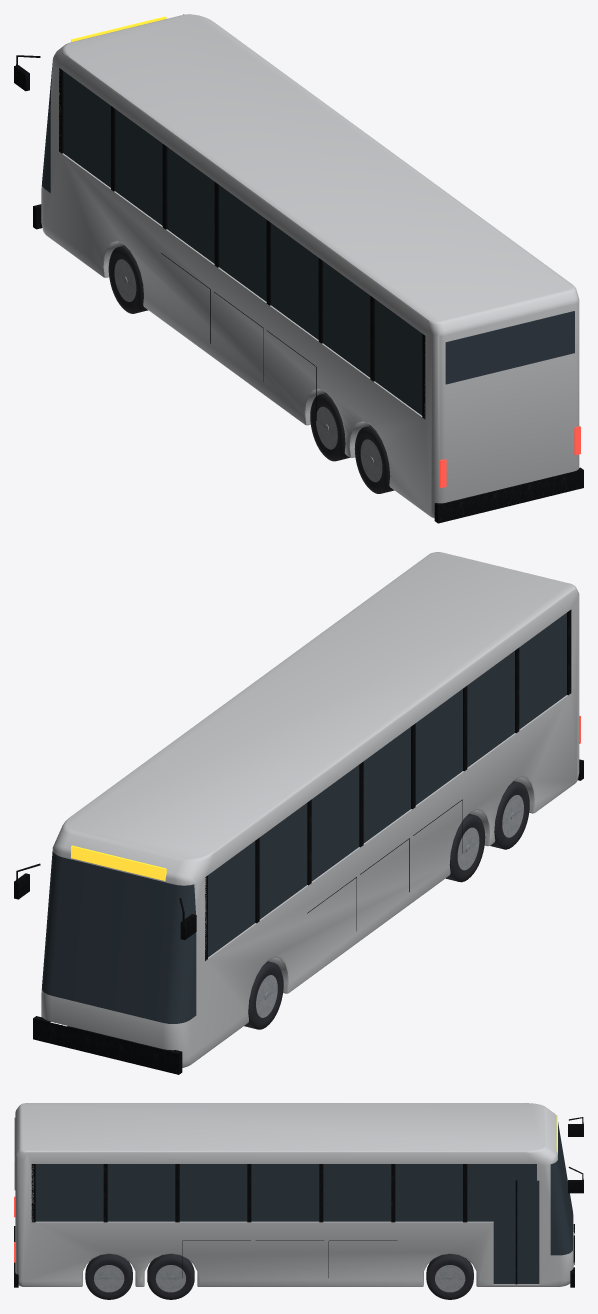
The model's file is coach_silver.gltf.
3 views of the same model, one above another, from view 1: azimuth 30°, elevation 25°; view 2: azimuth 150°, elevation 25°; view 3: azimuth 270°, elevation 25° (orthographic). The views are drawn at different scales.
Parts seen in each view (by area): view 1: coach_silver; view 2: coach_silver; view 3: coach_silver.
Boxes of the visible parts, x1,y1,x2,y2 form: coach_silver: (14, 14, 583, 523); coach_silver: (14, 552, 583, 1074); coach_silver: (14, 1103, 583, 1299).
Size of the model in its own units: 2.99 by 3.6 by 12.46.
Materials: 10 (4 with a texture image).
